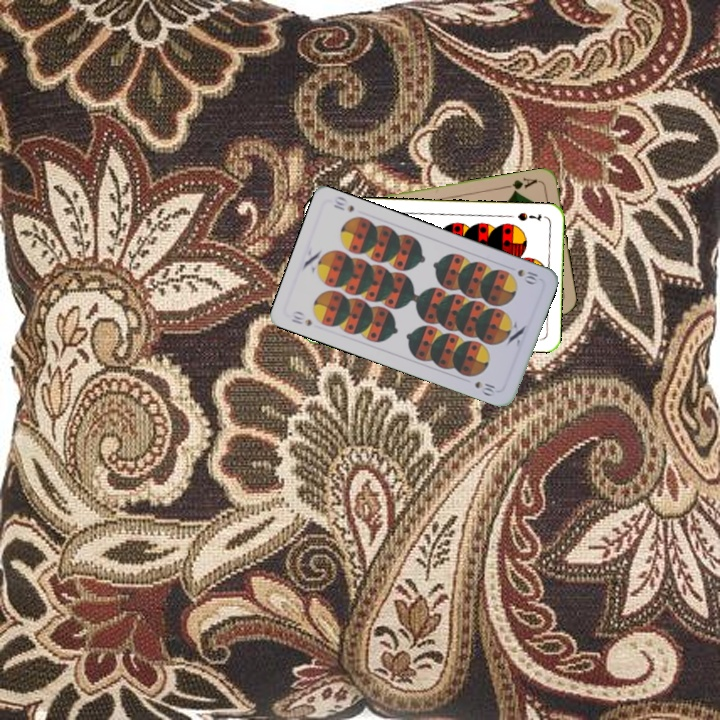GA: (501, 174, 541, 196)
S10: (513, 265, 541, 287), (287, 307, 314, 329)
S7: (513, 208, 544, 223)
